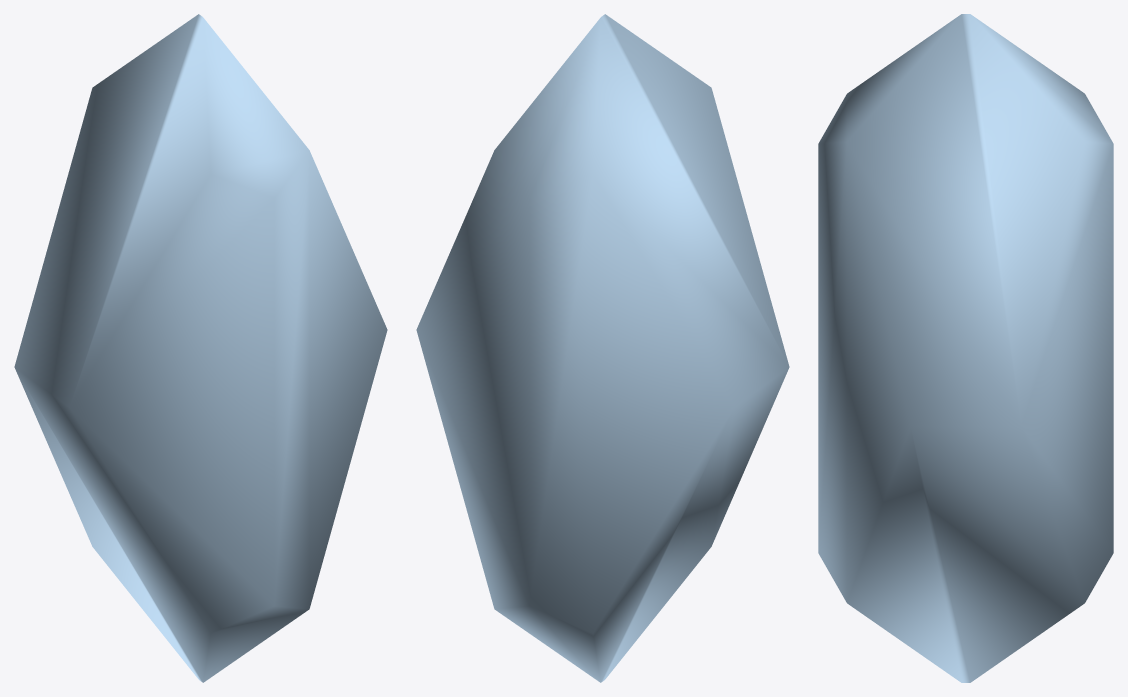
The model's file is celestine.glb.
3 views of the same model, side by side, from view 1: azimuth 30°, elevation 25°; view 2: azimuth 150°, elevation 25°; view 3: azimuth 270°, elevation 25° (orthographic).
Visible parts, largest first — view 1: celestine; view 2: celestine; view 3: celestine.
Part boxes in pixels (x1,y1,x2,y2): celestine: (14,14,387,682); celestine: (416,14,789,682); celestine: (818,14,1113,682).
Bounding box in the file's own units: 1.12 × 2.24 × 0.8944.
